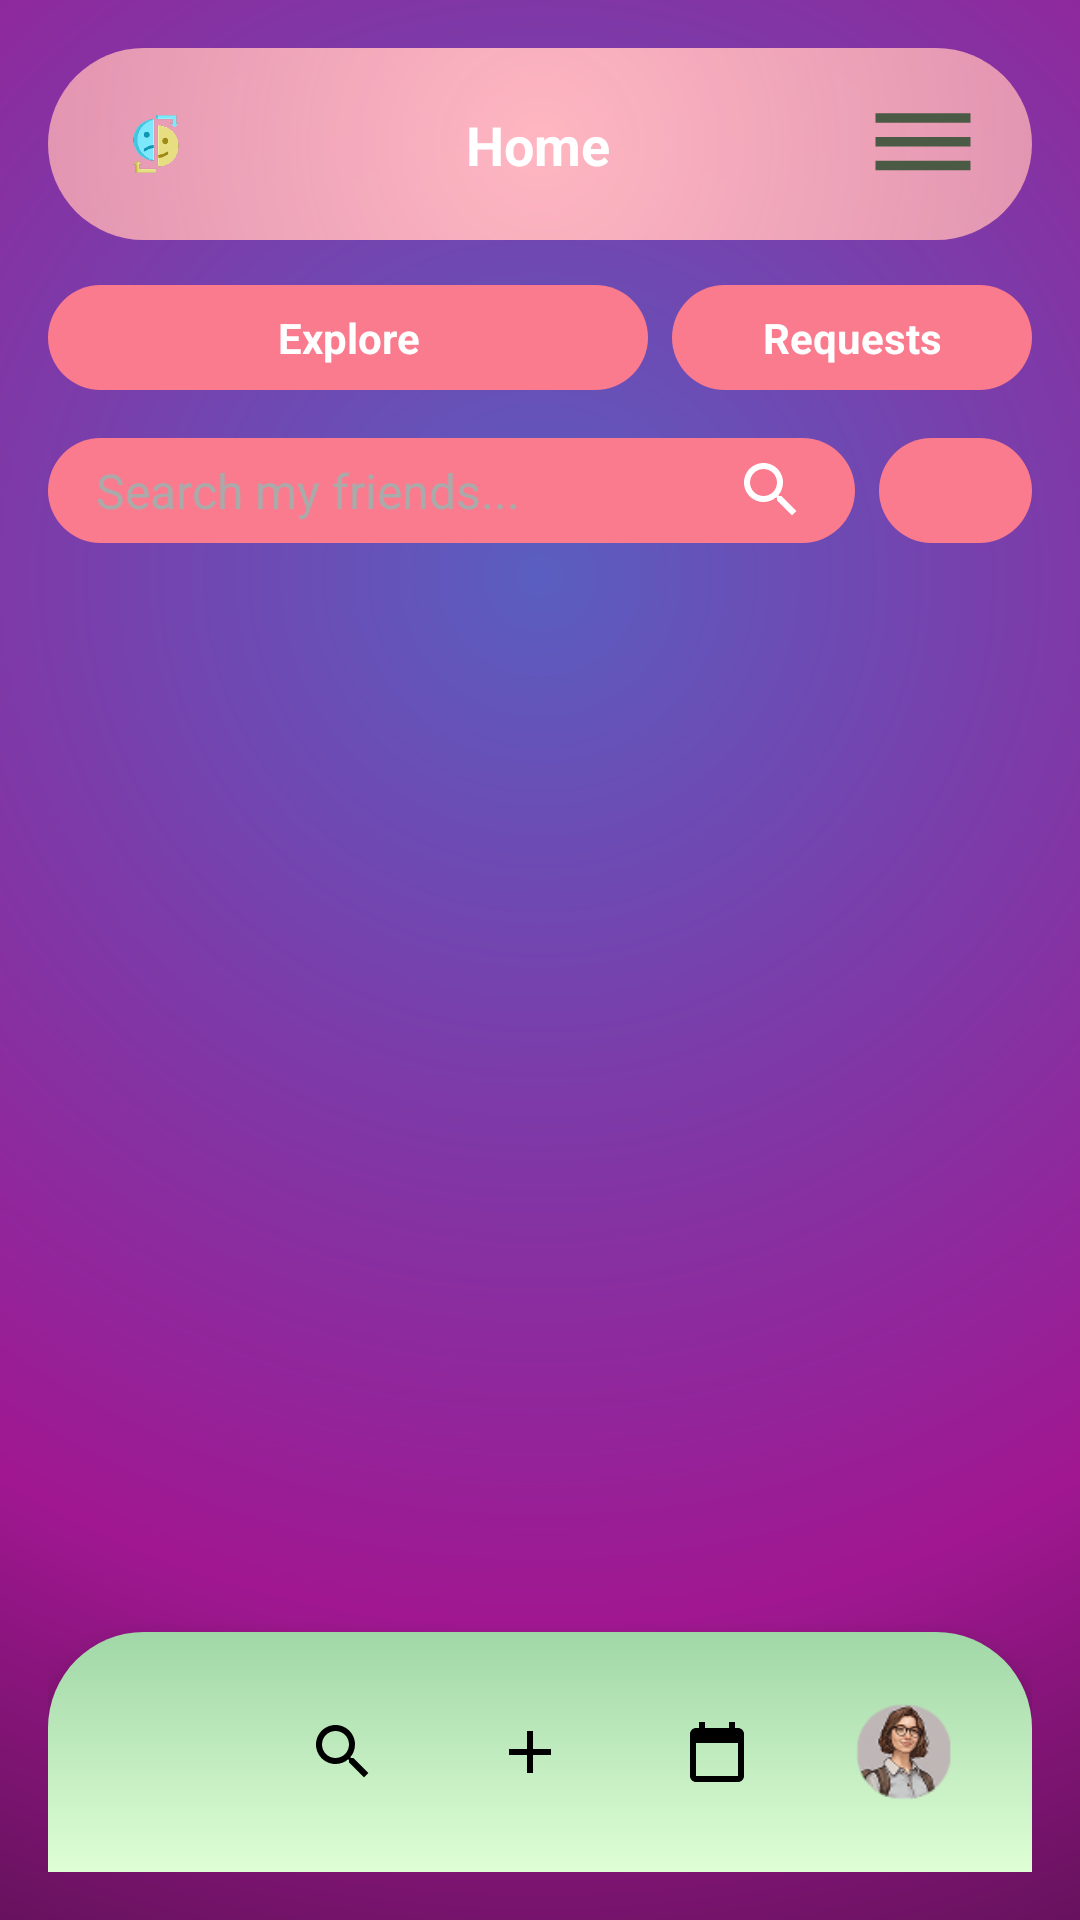

Icons on this 1080px x 1920px Android screen, each with its box as (x1, y1, x2, y2):
menu: (875, 113, 971, 171)
